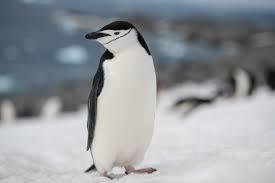chinstrap: (77, 18, 170, 180)
